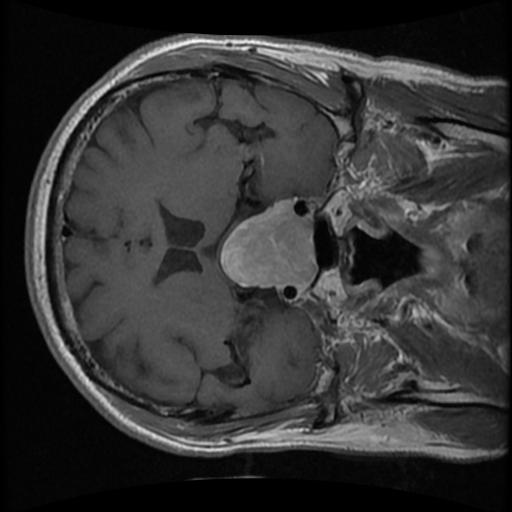pituitary tumour: (219, 196, 318, 299)
